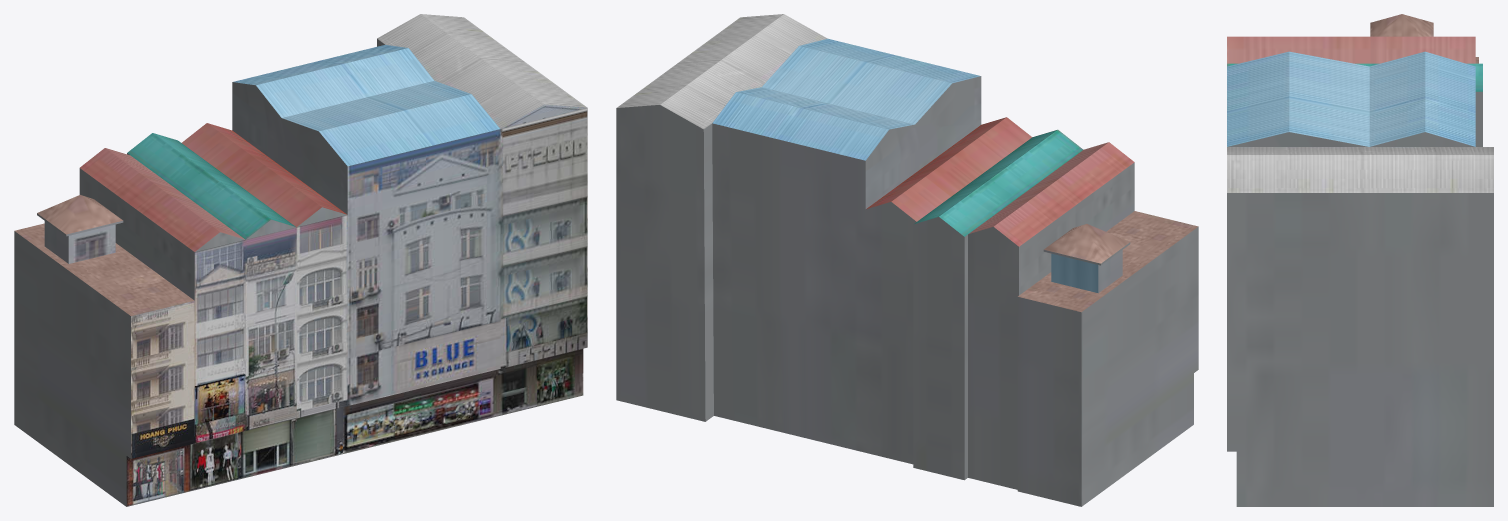
3 views of the same model, side by side, from view 1: azimuth 30°, elevation 25°; view 2: azimuth 150°, elevation 25°; view 3: azimuth 270°, elevation 25° (orthographic). The views are drawn at different scales.
Parts seen in each view (by area): view 1: 5c50254e822d164ae4d861ca.001; view 2: 5c50254e822d164ae4d861ca.001; view 3: 5c50254e822d164ae4d861ca.001.
Boxes of the visible parts, left/top/right/bottom form: 5c50254e822d164ae4d861ca.001: left=14, top=14, right=587, bottom=506; 5c50254e822d164ae4d861ca.001: left=616, top=14, right=1198, bottom=506; 5c50254e822d164ae4d861ca.001: left=1227, top=14, right=1493, bottom=506.
Bounding box in the file's own units: 34.48 × 22.01 × 16.17.
Materials: 1 (1 with a texture image).
